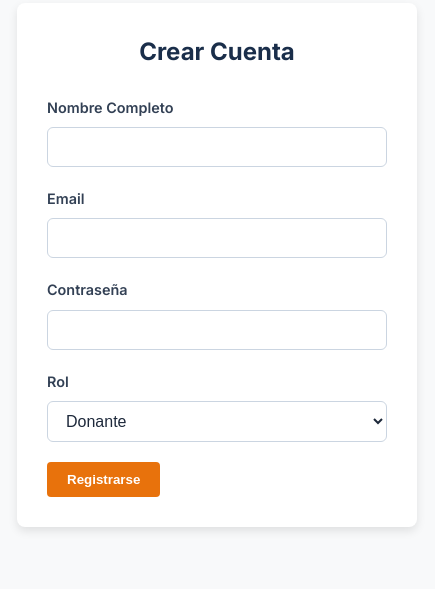
Test case: Componente RegisterForm › debe mostrar mensaje de éxito tras un registro correcto
The width and height of the screenshot is (435, 589).
// Llenamos campos mínimos requeridos
Type "Matias" into the field labelled "Nombre Completo" at (217, 147), box [47,127,387,167]
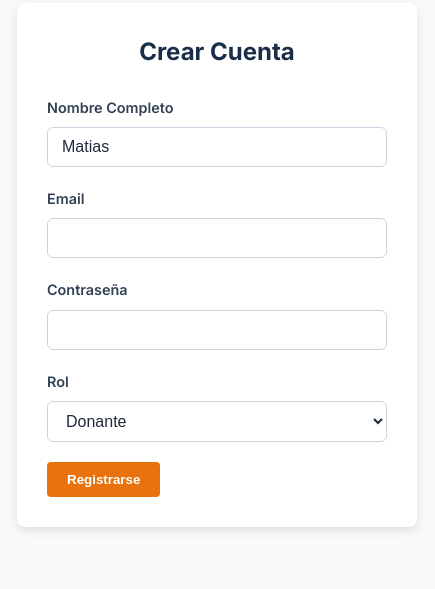
Type "m@m.cl" into the field labelled "Email" at (217, 238), box [47,218,387,258]
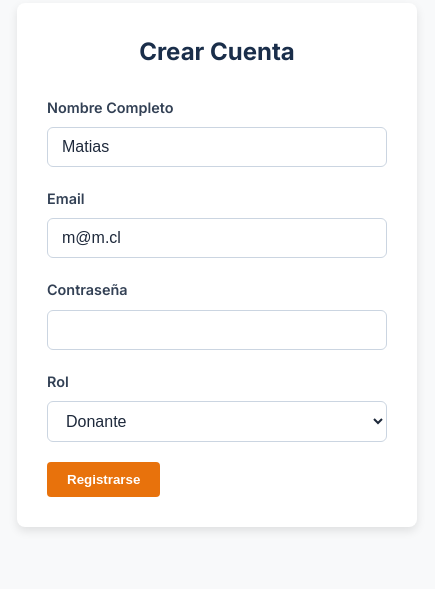
Type "1234" into the password field labelled "Contraseña" at (217, 330), box [47,310,387,350]
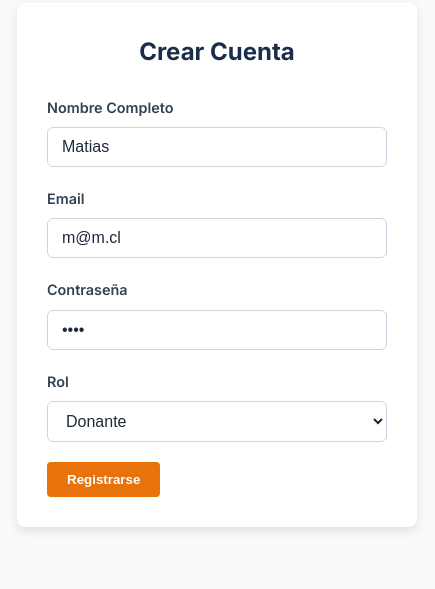
Click the button "Registrarse" at (104, 479), box [47,462,160,497]
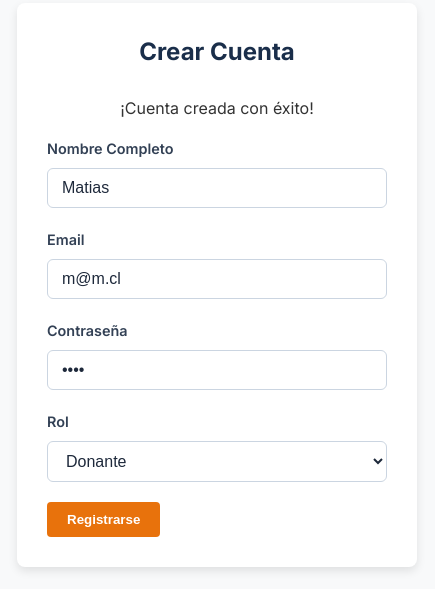
Expected: the text "¡Cuenta creada con éxito!" is shown, [120,98,314,118]
